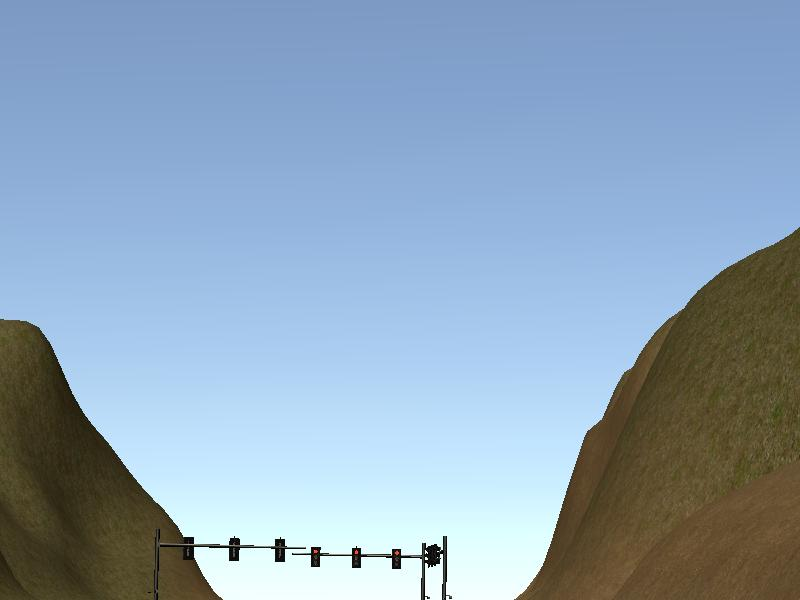Red: (351, 547, 361, 568), (391, 550, 401, 570), (311, 546, 320, 567)
